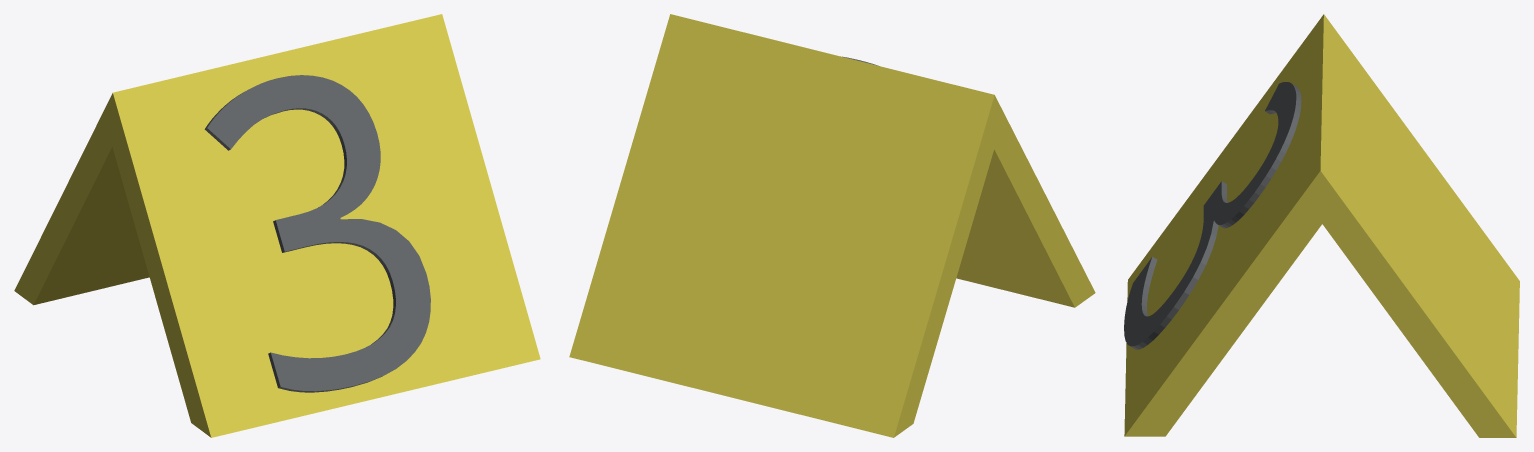
The model's file is bord3.gltf.
3 renders of one model, left to right at view 1: azimuth 30°, elevation 25°; view 2: azimuth 150°, elevation 25°; view 3: azimuth 270°, elevation 25°, orthographic.
Parts seen in each view (by area): view 1: Mesh_Mesh_head_geo.001_lambert2SG.001; view 2: Mesh_Mesh_head_geo.001_lambert2SG.001; view 3: Mesh_Mesh_head_geo.001_lambert2SG.001.
Boxes of the visible parts, x1,y1,x2,y2 form: Mesh_Mesh_head_geo.001_lambert2SG.001: [14, 14, 540, 437]; Mesh_Mesh_head_geo.001_lambert2SG.001: [569, 14, 1095, 437]; Mesh_Mesh_head_geo.001_lambert2SG.001: [1124, 14, 1519, 437].
Size of the model in its own units: 19.09 by 15 by 20.2.
